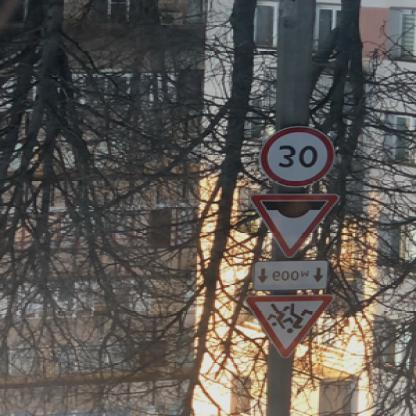speedlimit: (258, 126, 333, 188)
